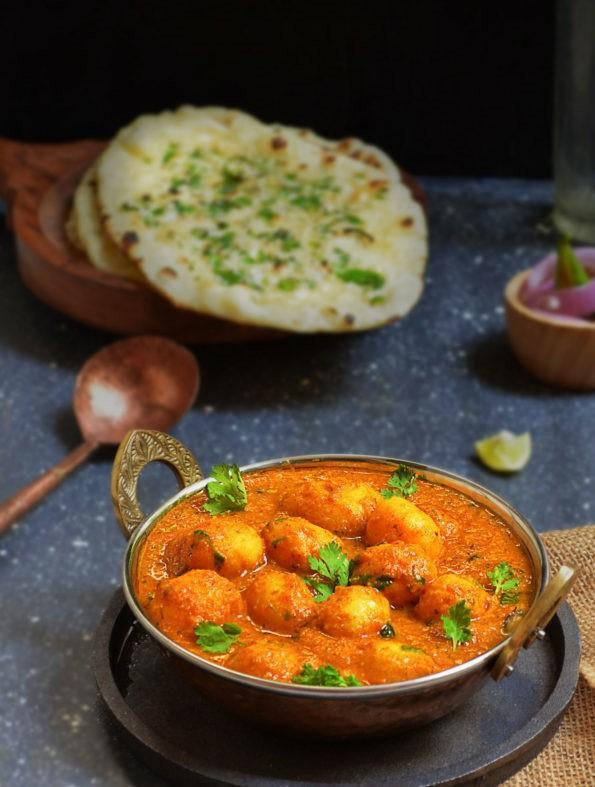DumAloo: (131, 462, 534, 684)
